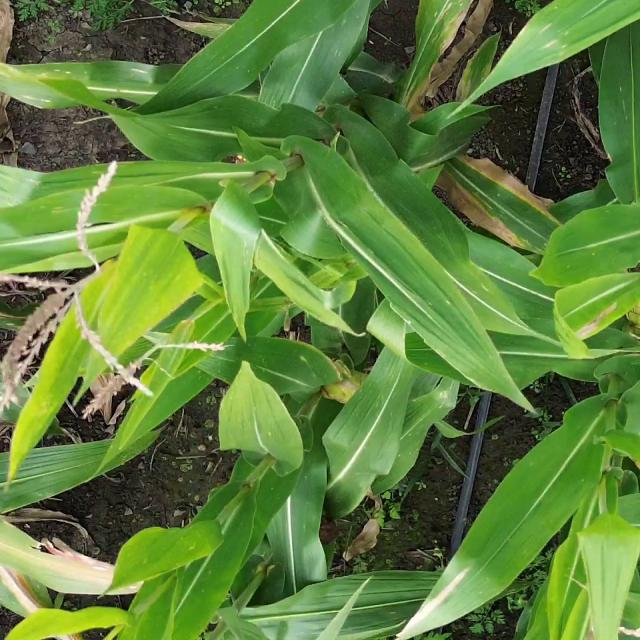gray-leaf-spot: (378, 3, 460, 107), (7, 171, 122, 219)
northern-leaf-blight: (440, 162, 567, 250), (531, 286, 621, 340)
southern-leaf-blight: (196, 332, 338, 411), (224, 449, 325, 559), (379, 370, 460, 465), (478, 6, 601, 68), (279, 10, 362, 95), (580, 61, 633, 144)
